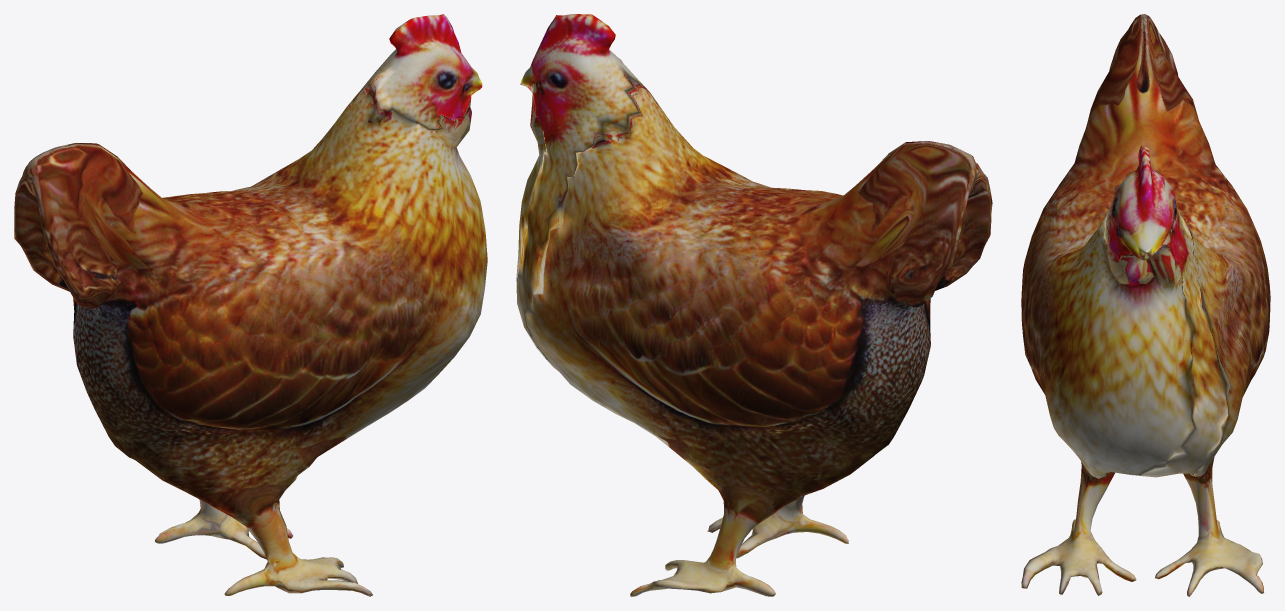
File: c3b69a43cb62_hen_min.fbx
The picture shows the model from 3 angles, left to right: view 1: azimuth 30°, elevation 25°; view 2: azimuth 150°, elevation 25°; view 3: azimuth 270°, elevation 25°; orthographic projection. The views are drawn at different scales.
Parts seen in each view (by area): view 1: mesh; view 2: mesh; view 3: mesh.
Part boxes in pixels (x1,y1,x2,y2): mesh: (14,14,487,596); mesh: (516,14,992,596); mesh: (1021,14,1270,596).
Bounding box in the file's own units: 91.49 × 99.1 × 44.81.
